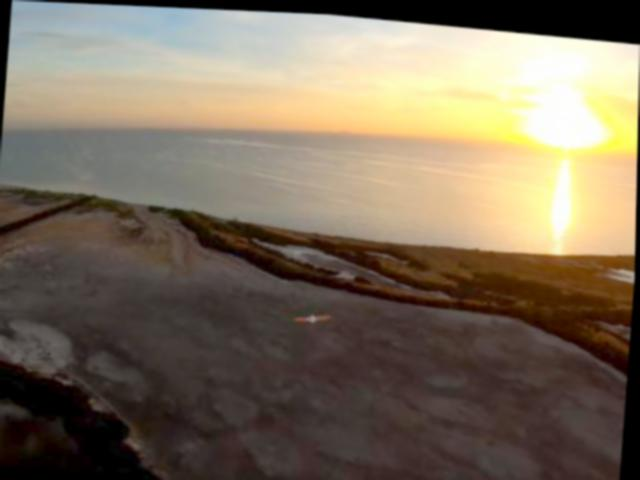uav: (292, 307, 338, 326)
